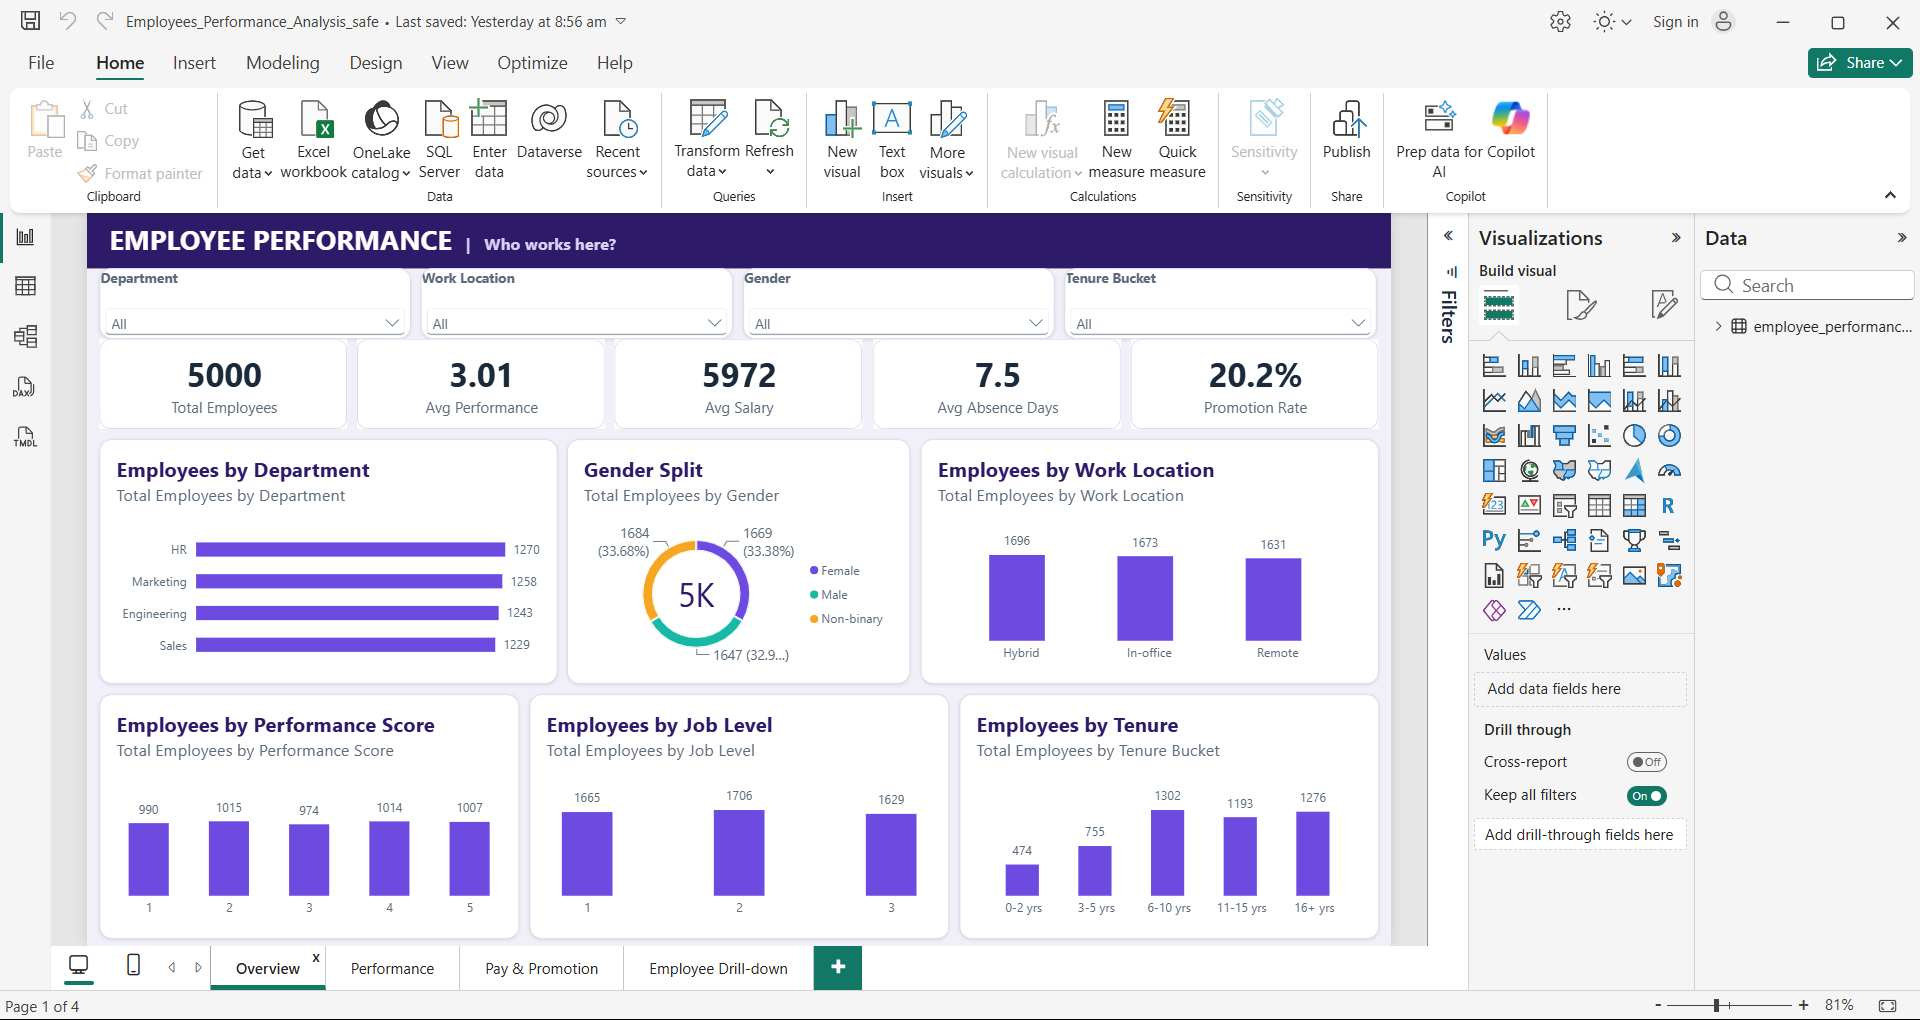

This screenshot's page, from the dashboard's own definition file:
{"tool":"powerbi","page":{"name":"Overview","canvas":[1280,720],"ordinal":0},"visuals":[{"type":"textbox","box":[0,0,1280,54],"z":1000},{"type":"slicer","title":"Department","fields":{"Values":["employee_performance_dataset.Department"]},"box":[12.3,54,305.5,69.9],"z":2000},{"type":"slicer","title":"Work Location","fields":{"Values":["employee_performance_dataset.Work_Location"]},"box":[327.6,54,306.8,69.9],"z":2100},{"type":"slicer","title":"Gender","fields":{"Values":["employee_performance_dataset.Gender"]},"box":[644.2,54,305.5,69.9],"z":2200},{"type":"slicer","title":"Tenure Bucket","fields":{"Values":["employee_performance_dataset.Tenure Bucket"]},"box":[959.5,54,306.8,69.9],"z":2300},{"type":"cardVisual","fields":{"Data":["employee_performance_dataset.Total Employees"]},"box":[12,124,243.2,88],"z":3000},{"type":"cardVisual","fields":{"Data":["employee_performance_dataset.Avg Performance Score"]},"box":[265.2,124,243.2,88],"z":3100},{"type":"cardVisual","fields":{"Data":["employee_performance_dataset.Average Salary"]},"box":[518.4,124,243.2,88],"z":3200},{"type":"cardVisual","fields":{"Data":["employee_performance_dataset.Average Absence Days"]},"box":[771.6,124,243.2,88],"z":3300},{"type":"cardVisual","fields":{"Data":["employee_performance_dataset.Promotion Rate"]},"box":[1024.8,124,243.2,88],"z":3400},{"type":"barChart","title":"Employees by Department","fields":{"Category":["employee_performance_dataset.Department"],"Y":["employee_performance_dataset.Total Employees"]},"box":[12,222,449.5,240],"z":4000},{"type":"donutChart","title":"Gender Split","fields":{"Category":["employee_performance_dataset.Gender"],"Y":["employee_performance_dataset.Total Employees"]},"box":[471.5,222,337.1,240],"z":4100},{"type":"columnChart","title":"Employees by Work Location","fields":{"Category":["employee_performance_dataset.Work_Location"],"Y":["employee_performance_dataset.Total Employees"]},"box":[818.5,222,449.5,240],"z":4200},{"type":"columnChart","title":"Employees by Performance Score","fields":{"Category":["employee_performance_dataset.Performance_Score"],"Y":["employee_performance_dataset.Total Employees"]},"box":[12,472,412,240],"z":5000},{"type":"columnChart","title":"Employees by Job Level","fields":{"Category":["employee_performance_dataset.Job_Level"],"Y":["employee_performance_dataset.Total Employees"]},"box":[434,472,412,240],"z":5100},{"type":"columnChart","title":"Employees by Tenure","fields":{"Category":["employee_performance_dataset.Tenure Bucket"],"Y":["employee_performance_dataset.Total Employees"]},"box":[856,472,412,240],"z":5200}]}

Visuals, with their boxes on the page's 1280x720 design canvas (x1, y1, x2, y2). These are canvas units, not pixel positions in the 1920x1020 screenshot, which may show the page scaled, cropped or inside an application window:
textbox: [left=0, top=0, right=1280, bottom=54]
"Department" slicer: [left=12, top=54, right=318, bottom=124]
"Work Location" slicer: [left=328, top=54, right=634, bottom=124]
"Gender" slicer: [left=644, top=54, right=950, bottom=124]
"Tenure Bucket" slicer: [left=960, top=54, right=1266, bottom=124]
cardVisual - employee_performance_dataset.Total Employees: [left=12, top=124, right=255, bottom=212]
cardVisual - employee_performance_dataset.Avg Performance Score: [left=265, top=124, right=508, bottom=212]
cardVisual - employee_performance_dataset.Average Salary: [left=518, top=124, right=762, bottom=212]
cardVisual - employee_performance_dataset.Average Absence Days: [left=772, top=124, right=1015, bottom=212]
cardVisual - employee_performance_dataset.Promotion Rate: [left=1025, top=124, right=1268, bottom=212]
"Employees by Department" barChart: [left=12, top=222, right=462, bottom=462]
"Gender Split" donutChart: [left=472, top=222, right=809, bottom=462]
"Employees by Work Location" columnChart: [left=818, top=222, right=1268, bottom=462]
"Employees by Performance Score" columnChart: [left=12, top=472, right=424, bottom=712]
"Employees by Job Level" columnChart: [left=434, top=472, right=846, bottom=712]
"Employees by Tenure" columnChart: [left=856, top=472, right=1268, bottom=712]
